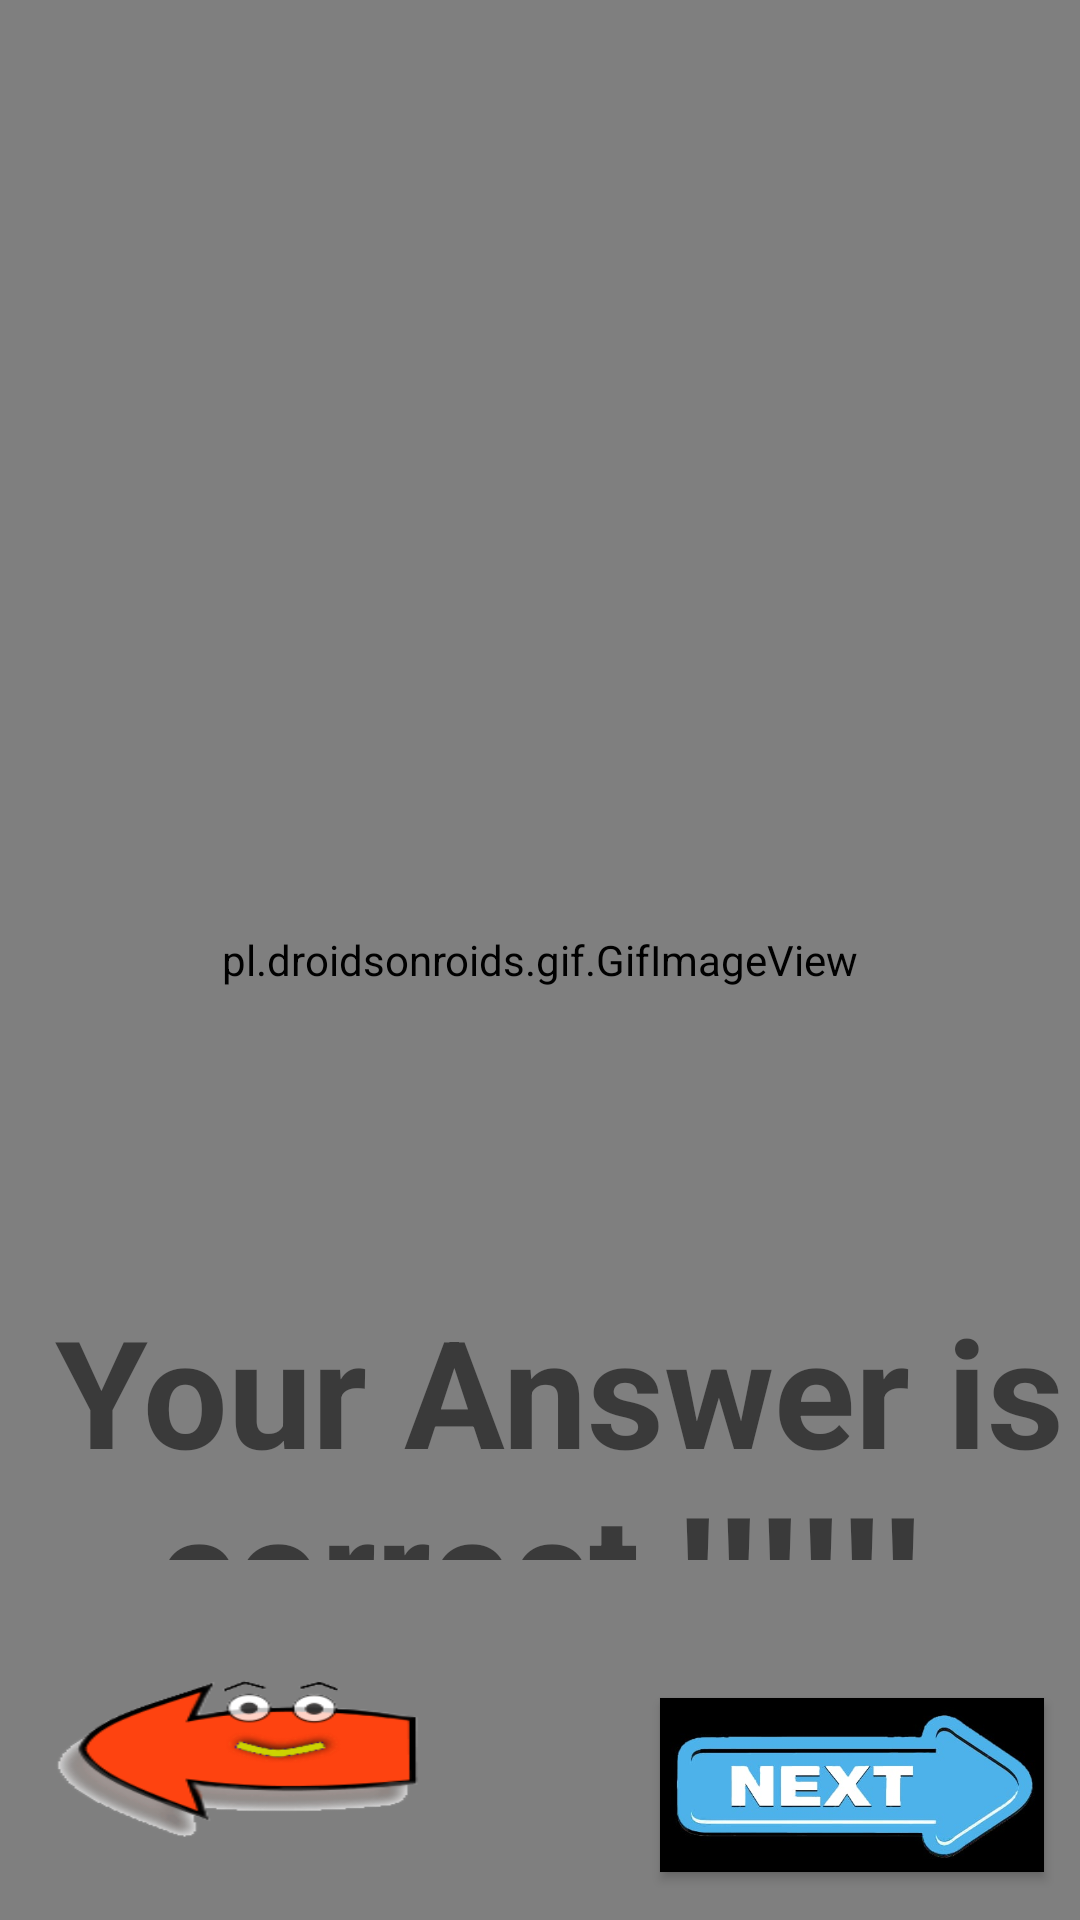

Where icons sit on this 1080x1920 app screen, as (x1, y1, x2, y2):
back: (58, 1682, 417, 1837)
